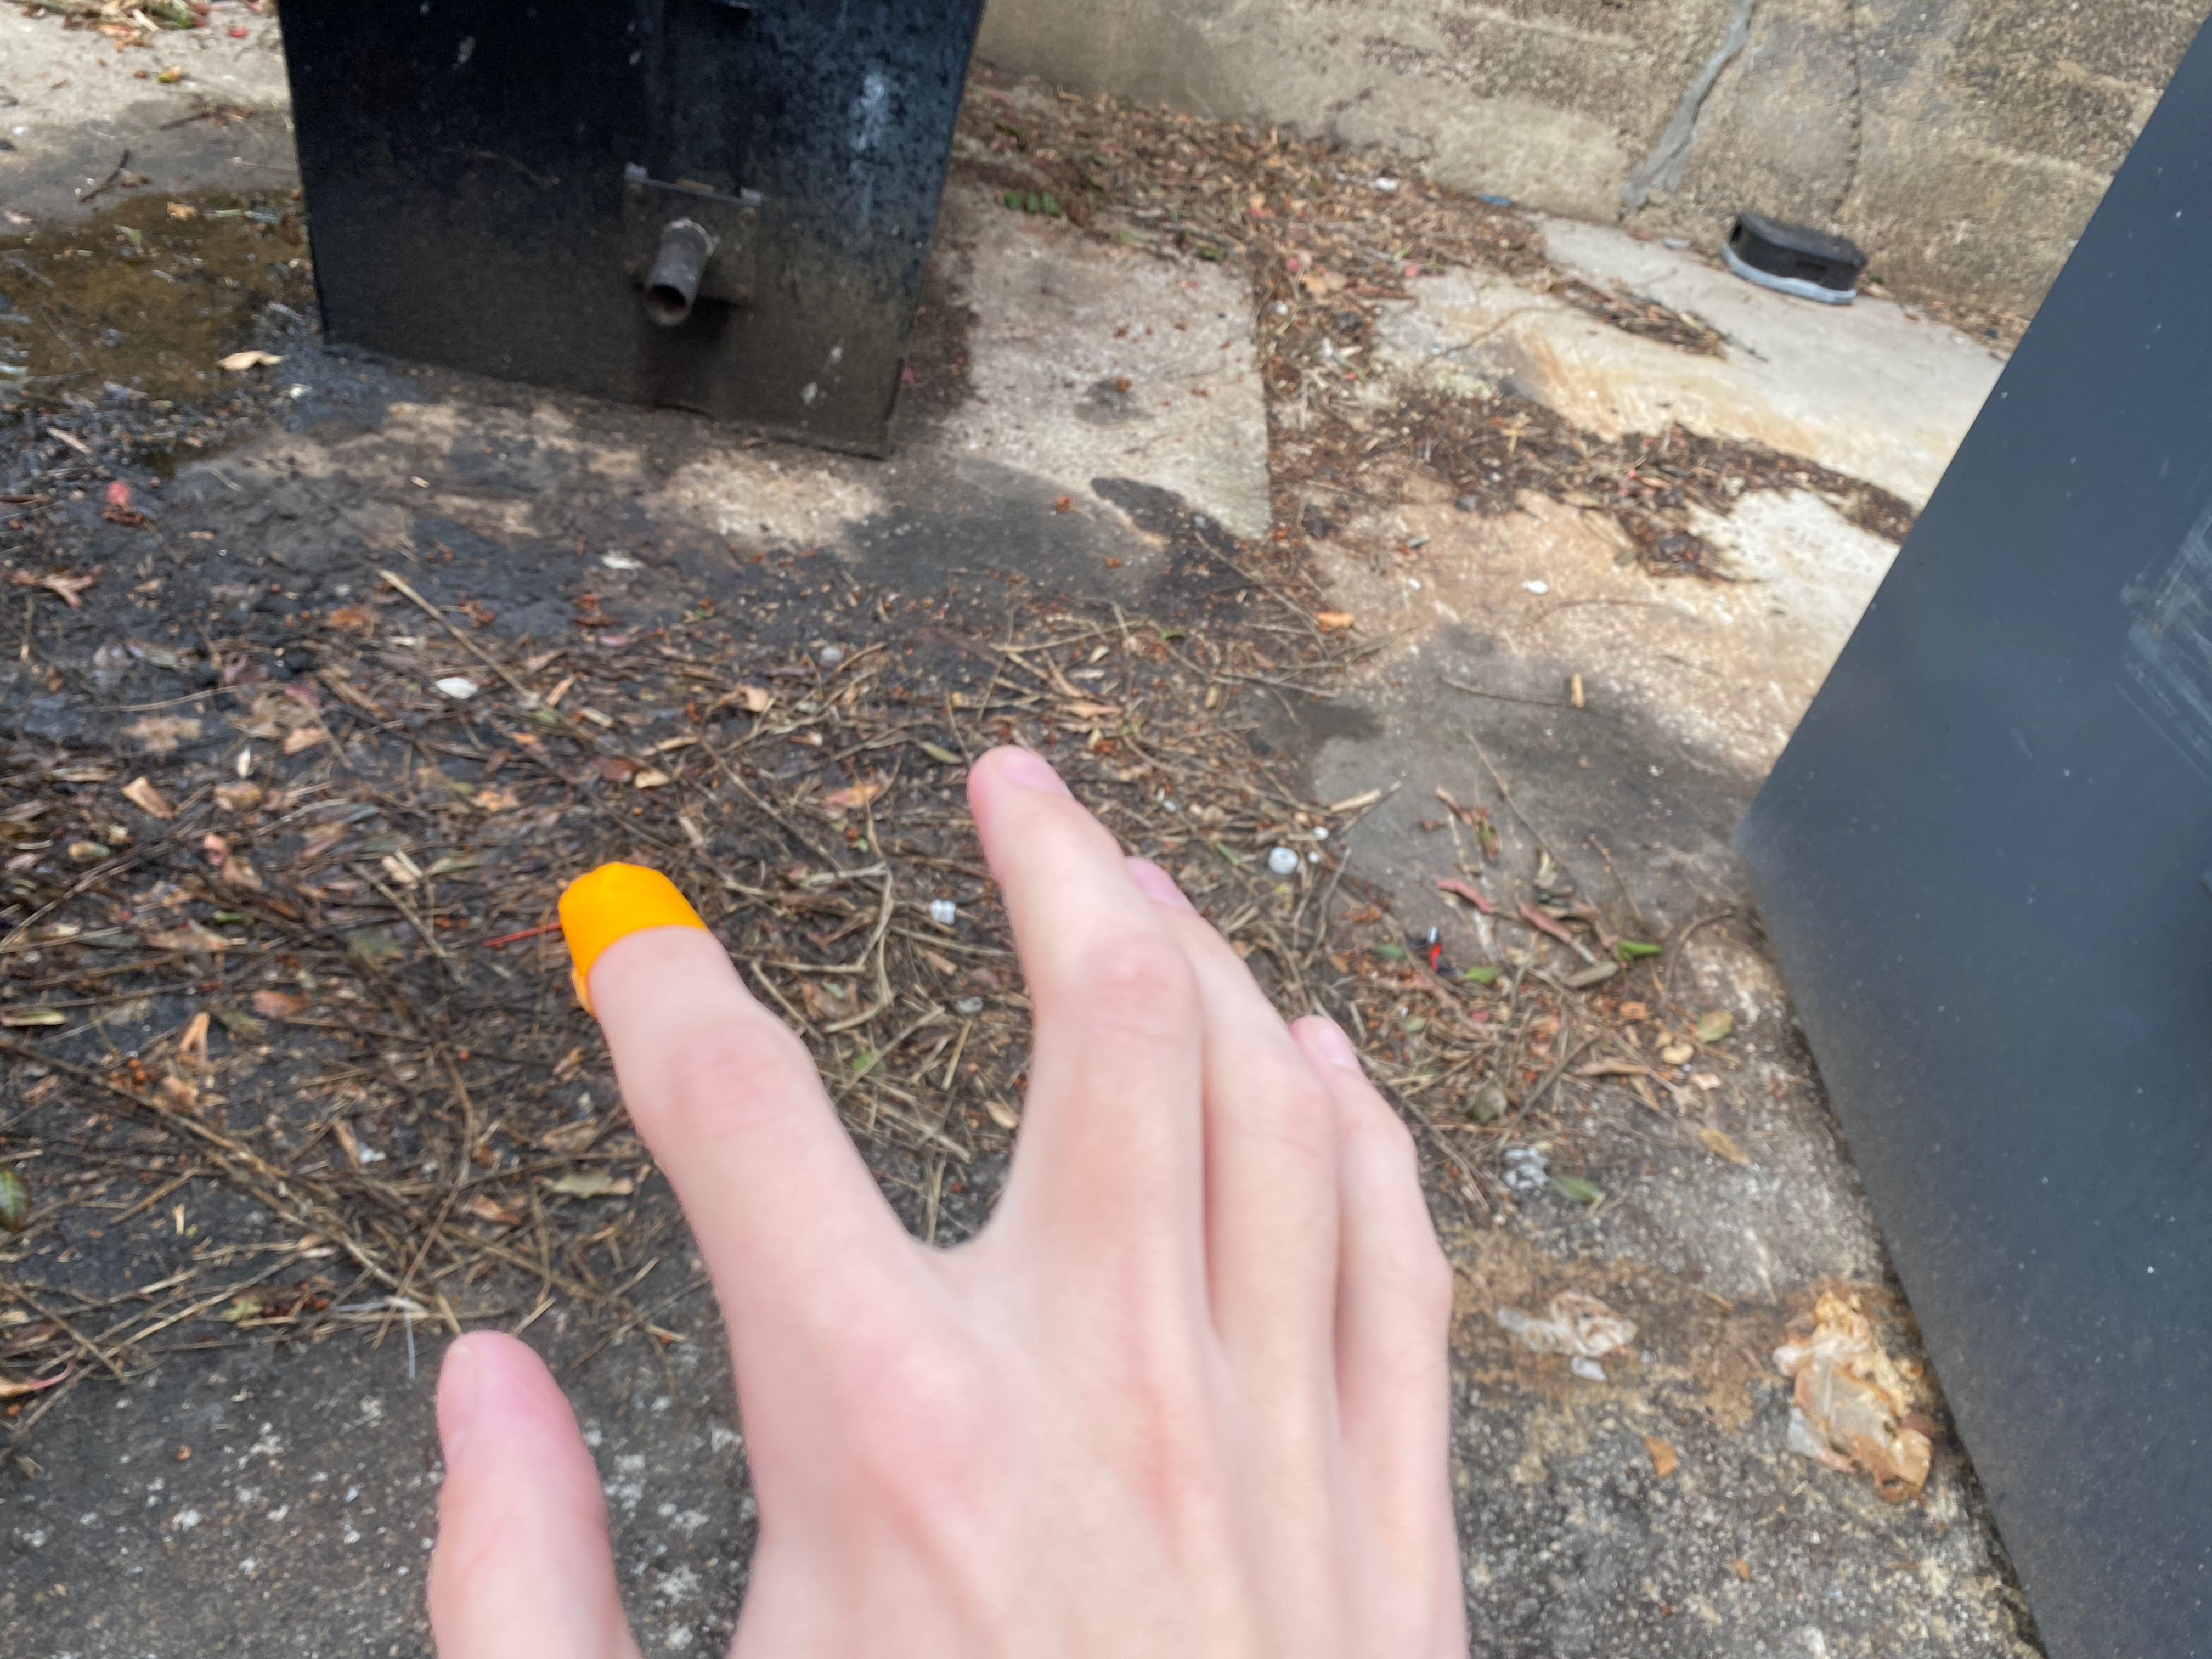fingertip: (531, 856, 711, 1035)
